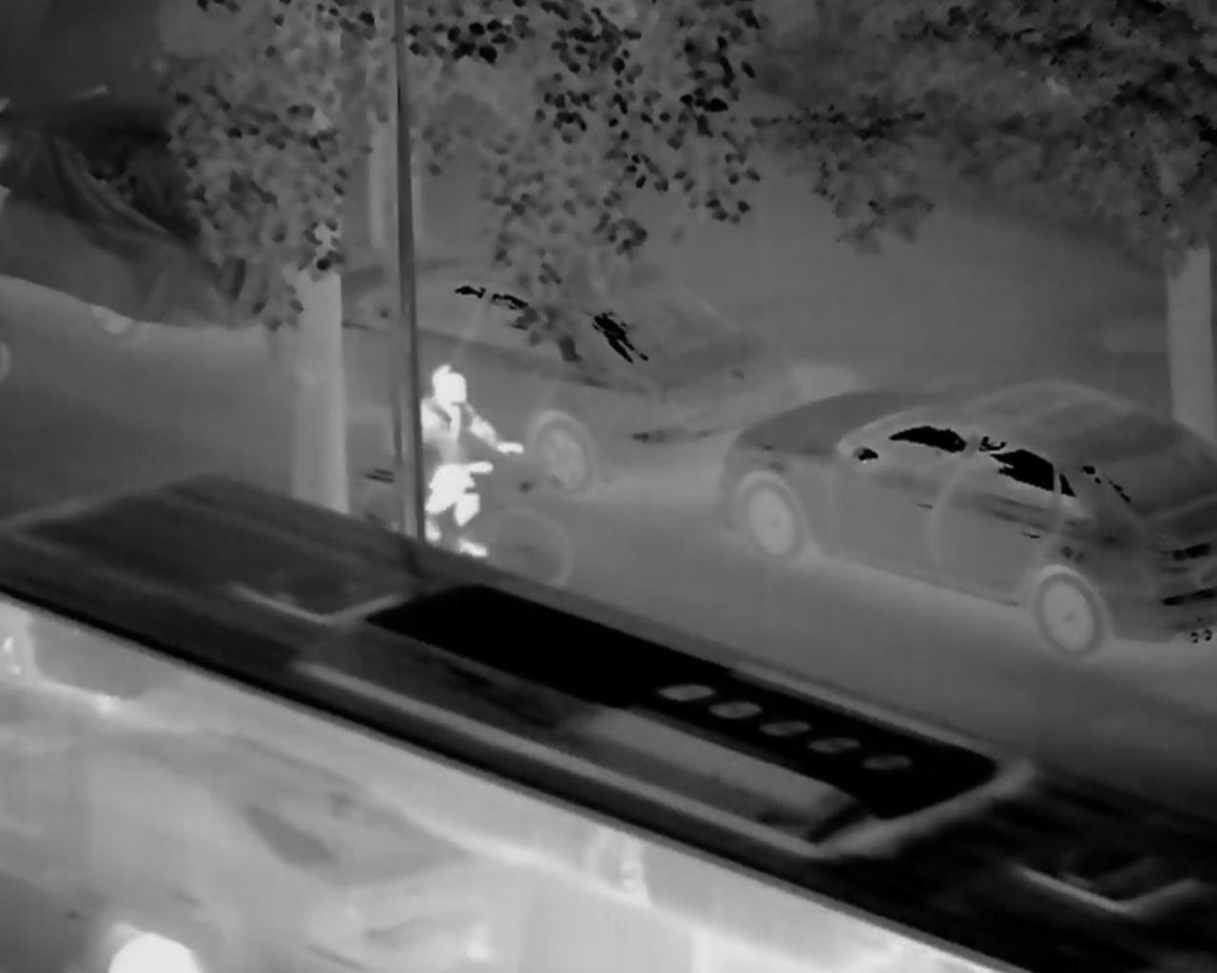person: (415, 363, 526, 567)
